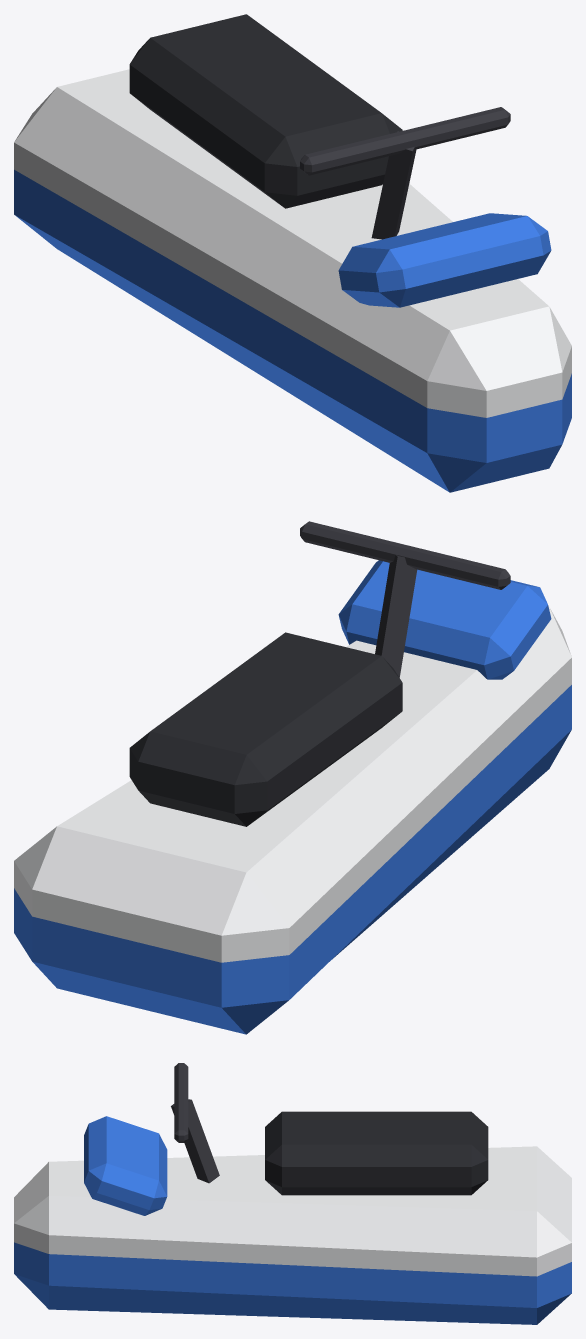
File: JetSki.fbx
The picture shows the model from 3 angles, top to bottom: view 1: azimuth 30°, elevation 25°; view 2: azimuth 150°, elevation 25°; view 3: azimuth 270°, elevation 25°; orthographic projection. The views are drawn at different scales.
Parts seen in each view (by area): view 1: JetSki; view 2: JetSki; view 3: JetSki.
Part boxes in pixels (x1,y1,x2,y2): JetSki: (14, 14, 571, 492); JetSki: (14, 521, 571, 1034); JetSki: (14, 1063, 571, 1324).
Bounding box in the file's own units: 1.6 × 1.55 × 4.
1 material, 1 textured.
